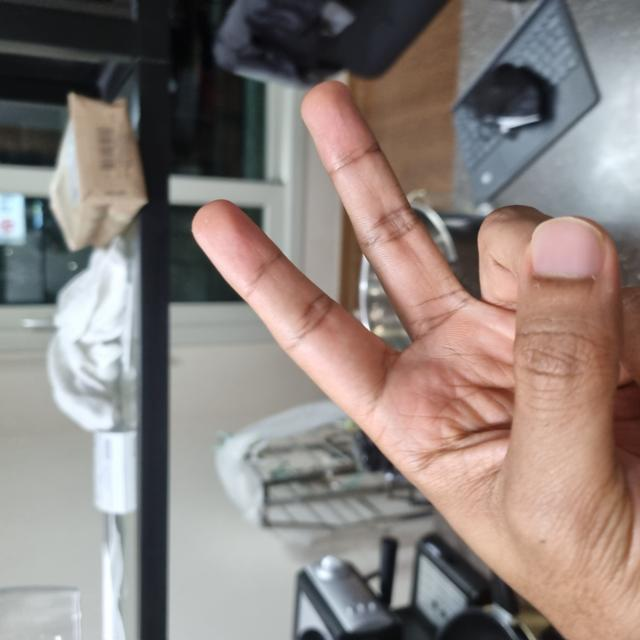Scissors: (3, 195, 556, 639)
